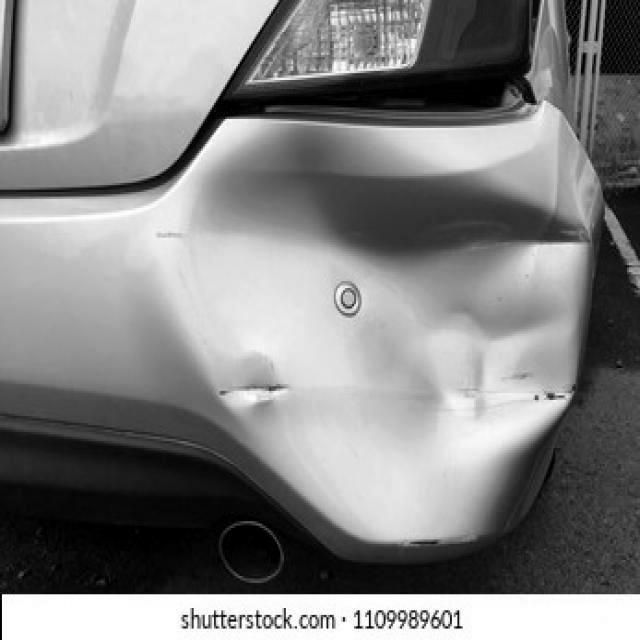rear-bumper-dent: (158, 122, 599, 551)
